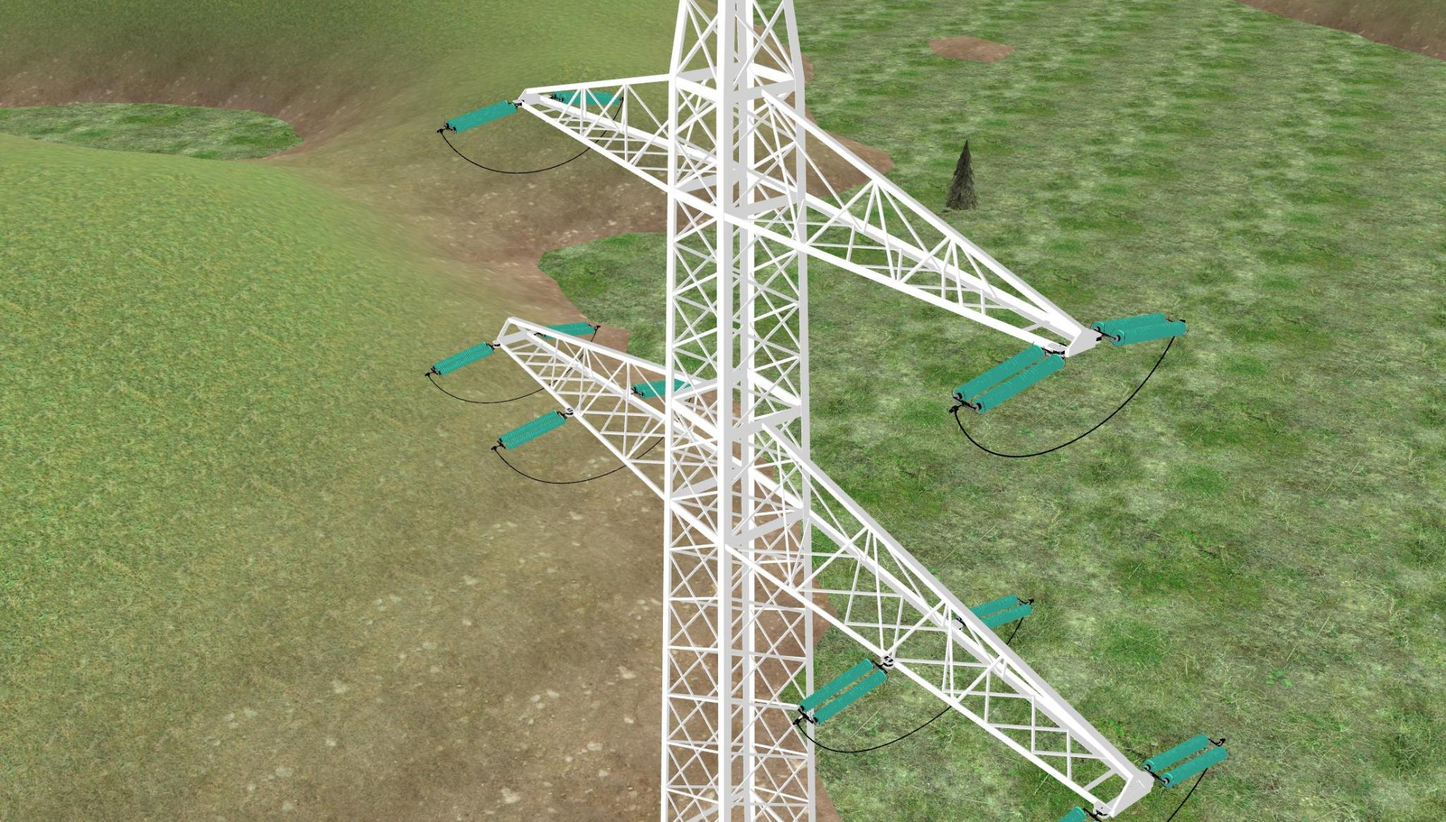tower: (492, 0, 1156, 822)
